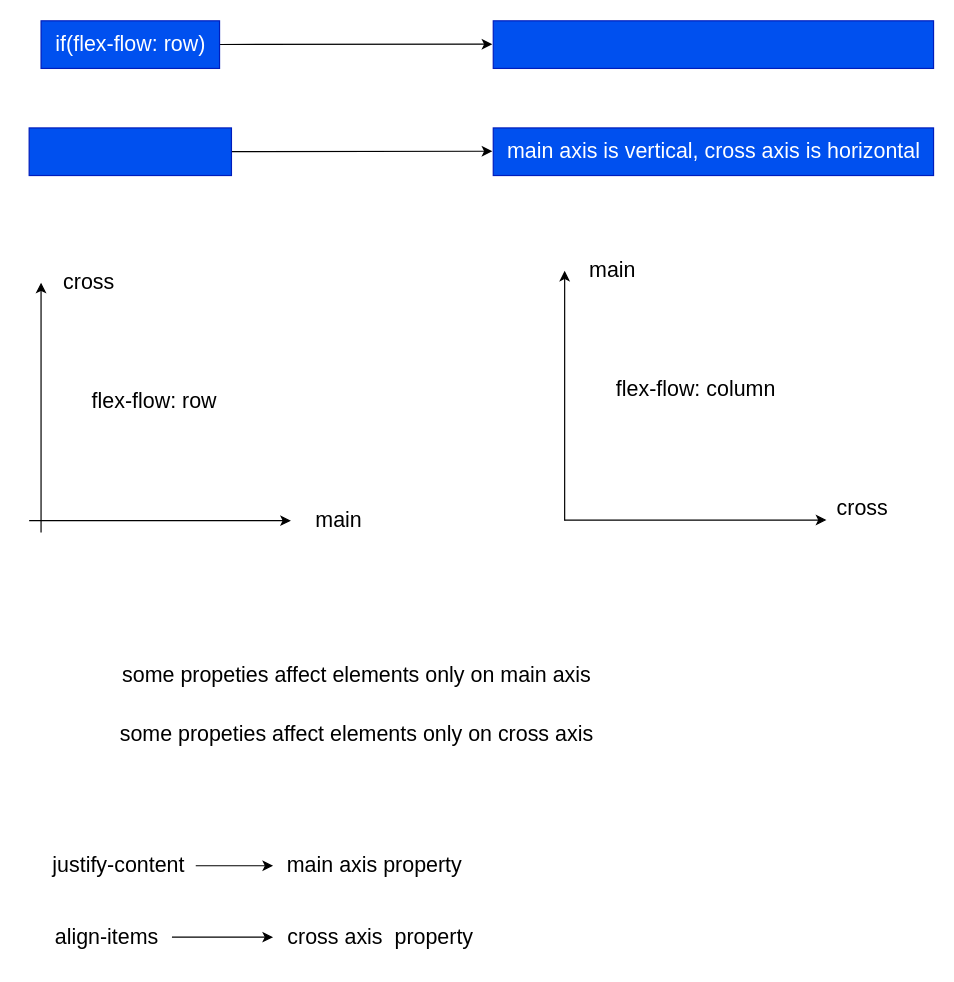
The diagram is 954 pixels wide and 982 high, and some of its shapes have lost their labels. The shapes that lost their labels are listed below. From the top down, each one's centre as x and y in pixels, then its label:
At pixel 713 44: "main axis is horizonal, cross axis is vertical".
At pixel 129 151: "if(flex-flow: coumn)".
